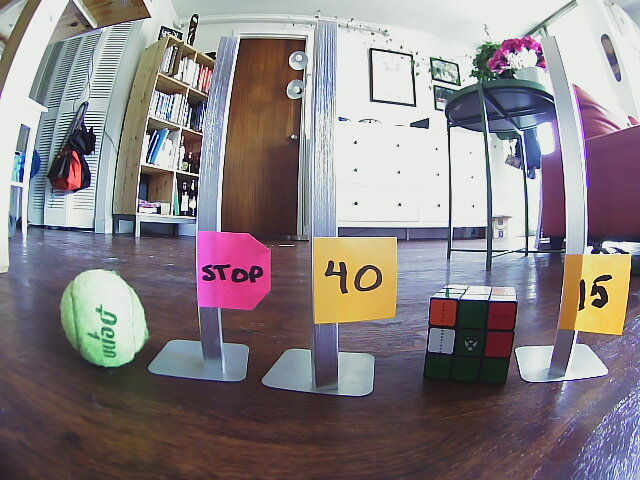15: (566, 255, 625, 332)
40: (314, 239, 394, 320)
ball: (60, 271, 149, 368)
cube: (429, 286, 512, 390)
stop: (196, 235, 272, 306)
